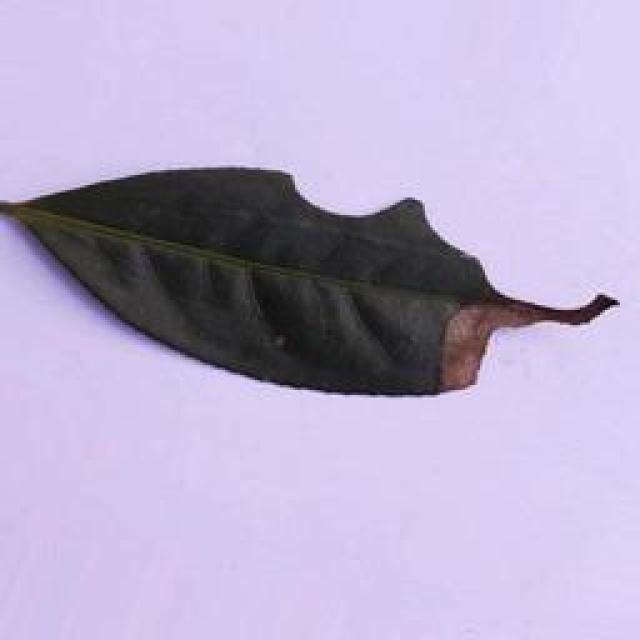Gray Blight: (0, 159, 622, 399)
